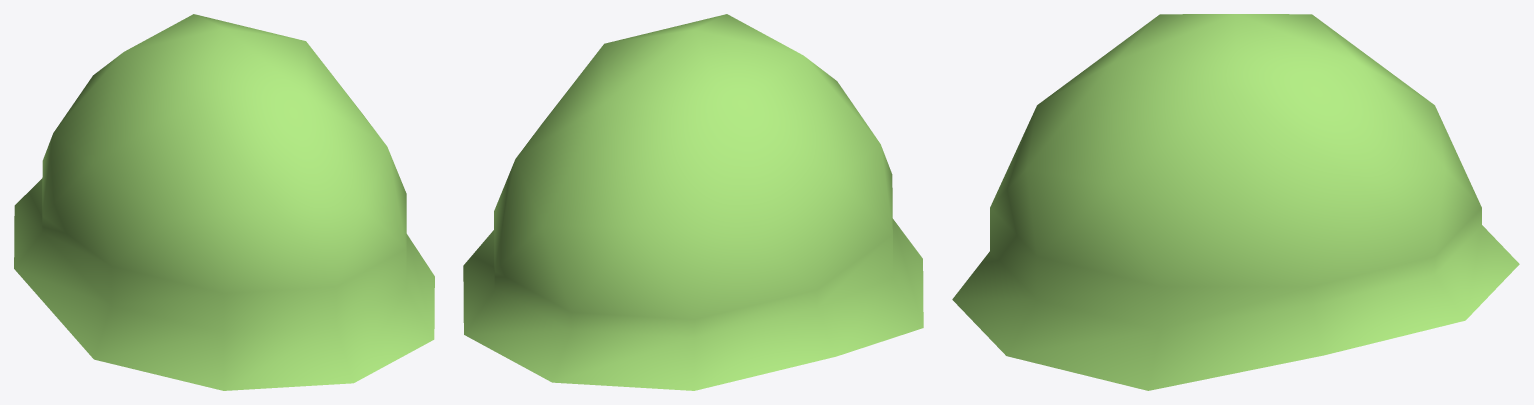
Rendered from M1helmet.fbx.
The picture shows the model from 3 angles, left to right: view 1: azimuth 30°, elevation 25°; view 2: azimuth 150°, elevation 25°; view 3: azimuth 270°, elevation 25°; orthographic projection. The views are drawn at different scales.
Visible parts, largest first — view 1: M1helmet; view 2: M1helmet; view 3: M1helmet.
Boxes of the visible parts, x1,y1,x2,y2 form: M1helmet: [14, 14, 434, 390]; M1helmet: [463, 14, 923, 390]; M1helmet: [952, 14, 1519, 390].
Bounding box in the file's own units: 0.2058 × 0.2701 × 0.15.
